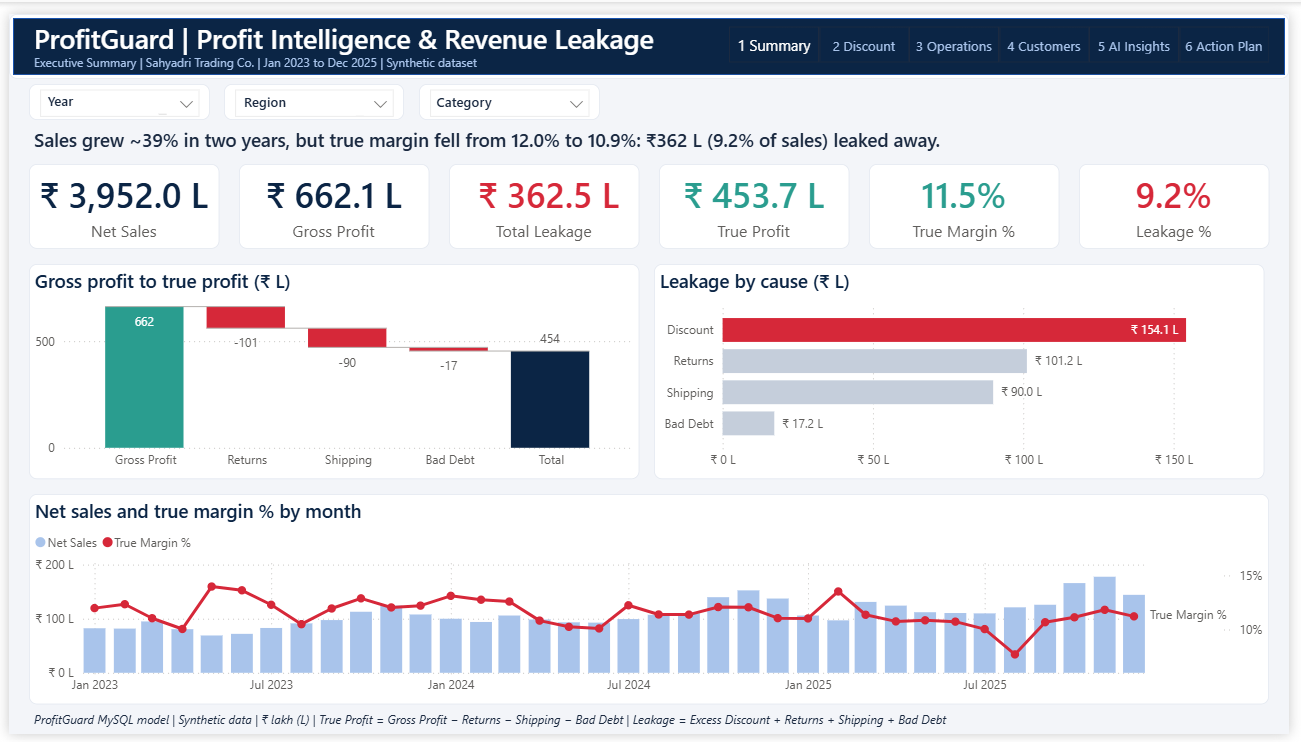

Layout of this report page (visuals, bound fields, positions):
{"tool":"powerbi","page":{"name":"1 Summary","canvas":[1280,720],"ordinal":0},"visuals":[{"type":"shape","box":[0,0,1280,65],"z":0},{"type":"textbox","title":"ProfitGuard | Profit Intelligence & Revenue Leakage","box":[20,6,720,38],"z":1000},{"type":"textbox","title":"Executive Summary | Sahyadri Trading Co. | Jan 2023 to Dec 2025 | Synthetic dataset","box":[20.5,40,720,20],"z":2000},{"type":"slicer","fields":{"Values":["profitguard dim_location.region"]},"box":[215,70,180,36],"z":3000},{"type":"slicer","title":"Year","fields":{"Values":["profitguard dim_date.year"]},"box":[20.5,70,181,36.2],"z":4000},{"type":"slicer","fields":{"Values":["profitguard dim_product.category"]},"box":[410,70,181,36.2],"z":5000},{"type":"textbox","title":"Sales grew ~39% in two years, but true margin fell from 12.0% to 10.9%: ₹362 L (9.2% of sales) leaked away.","box":[20,112,1240,30],"z":6000},{"type":"textbox","title":"ProfitGuard MySQL model | Synthetic data | ₹ lakh (L) | True Profit = Gross Profit − Returns − Shipping − Bad Debt | Leakage = Excess Discount + Returns + Shipping + Bad Debt","box":[20,697,1240.2,20],"z":7000},{"type":"waterfallChart","title":"Gross profit to true profit (₹ L) ","fields":{"Category":["Bridge.Step"],"Y":["Table.Bridge Value"]},"box":[20,250,610,215],"z":9000},{"type":"clusteredBarChart","title":"Leakage by cause (₹ L)","fields":{"Category":["Leakage Types.Type"],"Y":["Table.Leakage Amount"]},"box":[645,250,610,215],"z":10000},{"type":"lineClusteredColumnComboChart","title":"Net sales and true margin % by month","fields":{"Category":["profitguard dim_date.Month Start"],"Y":["Table.Net Sales"],"Y2":["Table.True Margin %"]},"box":[20,480,1240,210],"z":11000},{"type":"pageNavigator","box":[720,12,540,36],"z":12000},{"type":"textbox","title":"Year","box":[34.2,78,124.2,23],"z":13000},{"type":"textbox","title":"Region","box":[229.9,78.4,124.7,22.7],"z":14000},{"type":"textbox","title":"Category","box":[422,78.4,124.7,22.6],"z":15000},{"type":"card","fields":{"Values":["Table.Net Sales"]},"box":[20,150,190,85],"z":16000},{"type":"card","fields":{"Values":["Table.Gross Profit"]},"box":[230,150,190,85],"z":17000},{"type":"card","fields":{"Values":["Table.Total Leakage"]},"box":[440,150,190,85],"z":18000},{"type":"card","fields":{"Values":["Table.True Profit"]},"box":[650,150,190,85],"z":19000},{"type":"card","fields":{"Values":["Table.True Margin %"]},"box":[860,150,190,85],"z":20000},{"type":"card","fields":{"Values":["Table.Leakage %"]},"box":[1070,150,190,85],"z":21000}]}

Visuals, with their boxes in screenshot pixels (x1, y1, x2, y2), scaled from the page's 1280x720 canvas onto the 1301x742 screenshot:
shape: (left=0, top=0, right=1300, bottom=67)
"ProfitGuard | Profit Intelligence & Revenue Leakage" textbox: (left=20, top=6, right=752, bottom=45)
"Executive Summary | Sahyadri Trading Co. | Jan 2023 to Dec 2025 | Synthetic dataset" textbox: (left=21, top=41, right=753, bottom=62)
slicer - profitguard dim_location.region: (left=219, top=72, right=401, bottom=109)
"Year" slicer: (left=21, top=72, right=205, bottom=109)
slicer - profitguard dim_product.category: (left=417, top=72, right=601, bottom=109)
"Sales grew ~39% in two years, but true margin fell from 12.0% to 10.9%: ₹362 L (9.2% of sales) leaked away." textbox: (left=20, top=115, right=1281, bottom=146)
"ProfitGuard MySQL model | Synthetic data | ₹ lakh (L) | True Profit = Gross Profit − Returns − Shipping − Bad Debt | Leakage = Excess Discount + Returns + Shipping + Bad Debt" textbox: (left=20, top=718, right=1281, bottom=739)
"Gross profit to true profit (₹ L) " waterfallChart: (left=20, top=258, right=640, bottom=479)
"Leakage by cause (₹ L)" clusteredBarChart: (left=656, top=258, right=1276, bottom=479)
"Net sales and true margin % by month" lineClusteredColumnComboChart: (left=20, top=495, right=1281, bottom=711)
pageNavigator: (left=732, top=12, right=1281, bottom=49)
"Year" textbox: (left=35, top=80, right=161, bottom=104)
"Region" textbox: (left=234, top=81, right=360, bottom=104)
"Category" textbox: (left=429, top=81, right=556, bottom=104)
card - Table.Net Sales: (left=20, top=155, right=213, bottom=242)
card - Table.Gross Profit: (left=234, top=155, right=427, bottom=242)
card - Table.Total Leakage: (left=447, top=155, right=640, bottom=242)
card - Table.True Profit: (left=661, top=155, right=854, bottom=242)
card - Table.True Margin %: (left=874, top=155, right=1067, bottom=242)
card - Table.Leakage %: (left=1088, top=155, right=1281, bottom=242)
